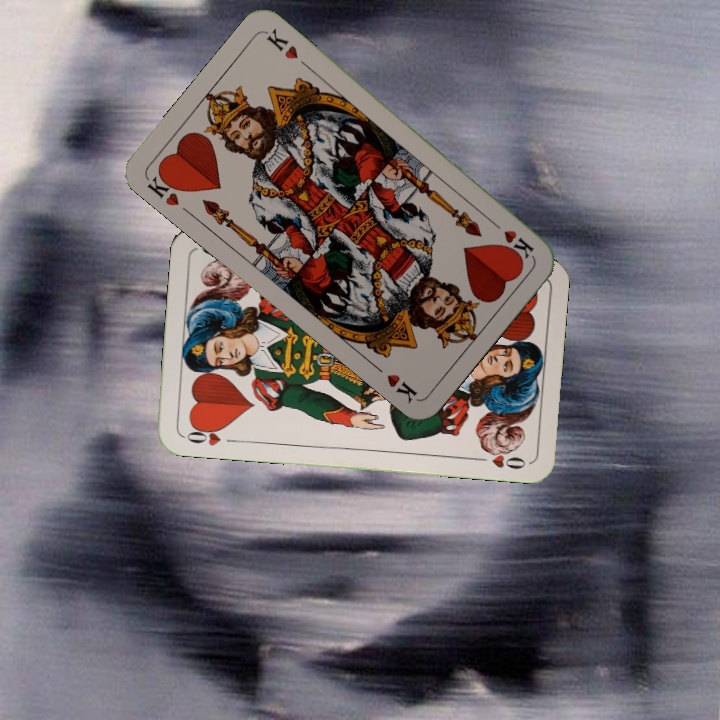HK: (486, 215, 537, 261), (143, 166, 186, 209)
HO: (180, 421, 239, 449)
